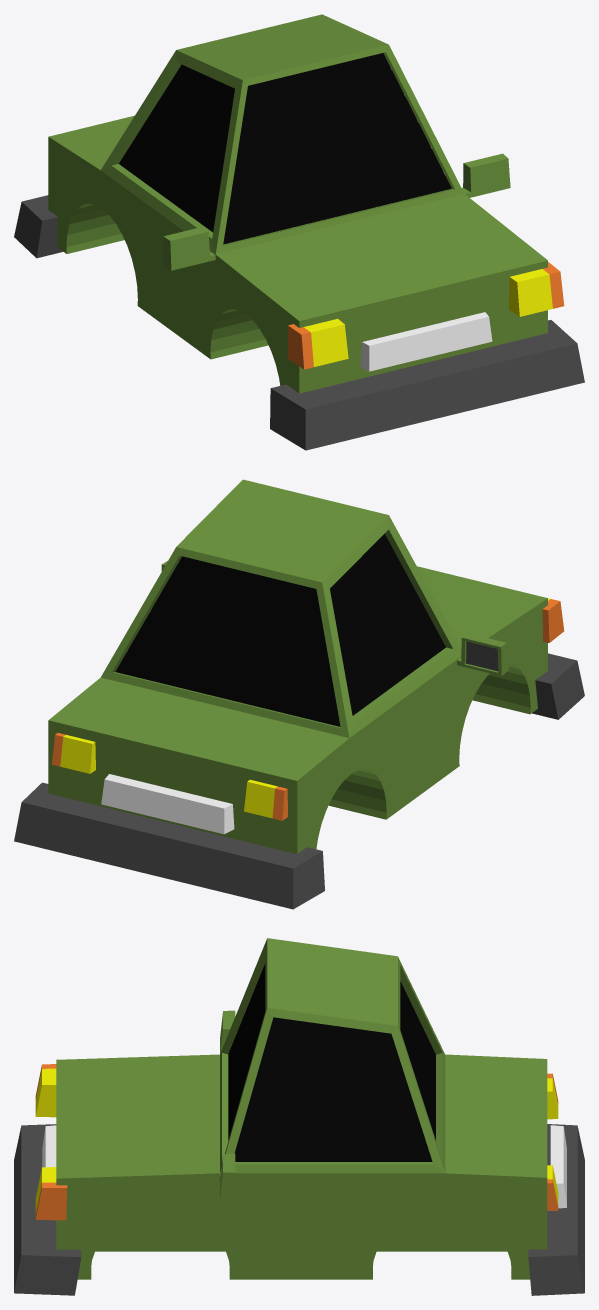
Rendered from Carro.glb.
3 views of the same model, one above another, from view 1: azimuth 30°, elevation 25°; view 2: azimuth 150°, elevation 25°; view 3: azimuth 270°, elevation 25° (orthographic). The views are drawn at different scales.
Visible parts, largest first — view 1: Carro, Janelas, Parachoque_Dianteiro, Placa_Traseira.001, Farol_Dir, Farol_Esq, Parachoque_Traseiro, Visor_Dir, Visor_Esq; view 2: Carro, Janelas, Parachoque_Traseiro, Placa_Traseira, Parachoque_Dianteiro, Visor_Dir, Farol_Esq_Tras, Farol_Dir_Tras, Farol_Dir; view 3: Carro, Janelas, Parachoque_Dianteiro, Parachoque_Traseiro, Farol_Esq, Placa_Traseira, Farol_Dir, Visor_Esq, Placa_Traseira.001, Farol_Dir_Tras, Farol_Esq_Tras.
Boxes of the visible parts, x1=… form: Carro: x1=48, y1=14, x2=547, y2=393; Janelas: x1=119, y1=53, x2=451, y2=244; Parachoque_Dianteiro: x1=270, y1=320, x2=584, y2=450; Placa_Traseira.001: x1=360, y1=312, x2=492, y2=371; Farol_Dir: x1=287, y1=318, x2=348, y2=369; Farol_Esq: x1=509, y1=262, x2=564, y2=316; Parachoque_Traseiro: x1=14, y1=195, x2=63, y2=258; Visor_Dir: x1=163, y1=227, x2=215, y2=270; Visor_Esq: x1=461, y1=153, x2=510, y2=197; Carro: x1=48, y1=479, x2=547, y2=853; Janelas: x1=115, y1=533, x2=445, y2=726; Parachoque_Traseiro: x1=14, y1=782, x2=324, y2=909; Placa_Traseira: x1=101, y1=774, x2=234, y2=834; Parachoque_Dianteiro: x1=532, y1=653, x2=584, y2=719; Visor_Dir: x1=457, y1=633, x2=508, y2=675; Farol_Esq_Tras: x1=52, y1=733, x2=95, y2=773; Farol_Dir_Tras: x1=244, y1=779, x2=287, y2=820; Farol_Dir: x1=542, y1=598, x2=564, y2=642; Carro: x1=56, y1=938, x2=547, y2=1279; Janelas: x1=228, y1=963, x2=435, y2=1161; Parachoque_Dianteiro: x1=14, y1=1124, x2=81, y2=1295; Parachoque_Traseiro: x1=528, y1=1124, x2=584, y2=1295; Farol_Esq: x1=35, y1=1167, x2=67, y2=1220; Placa_Traseira: x1=550, y1=1125, x2=566, y2=1208; Farol_Dir: x1=35, y1=1064, x2=56, y2=1117; Visor_Esq: x1=219, y1=1153, x2=235, y2=1201; Placa_Traseira.001: x1=42, y1=1125, x2=56, y2=1167; Farol_Dir_Tras: x1=547, y1=1073, x2=558, y2=1119; Farol_Esq_Tras: x1=547, y1=1165, x2=558, y2=1210.
Size of the model in its own units: 2.5 by 1.82 by 3.7.
Materials: 3 (3 with a texture image).
